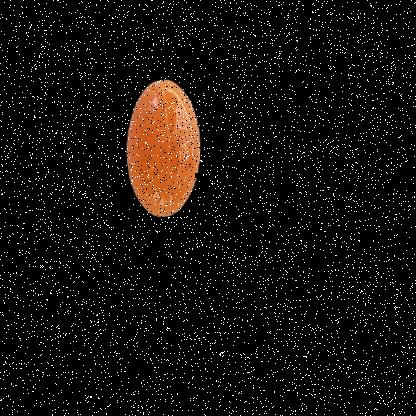welood: (107, 60, 238, 242)
